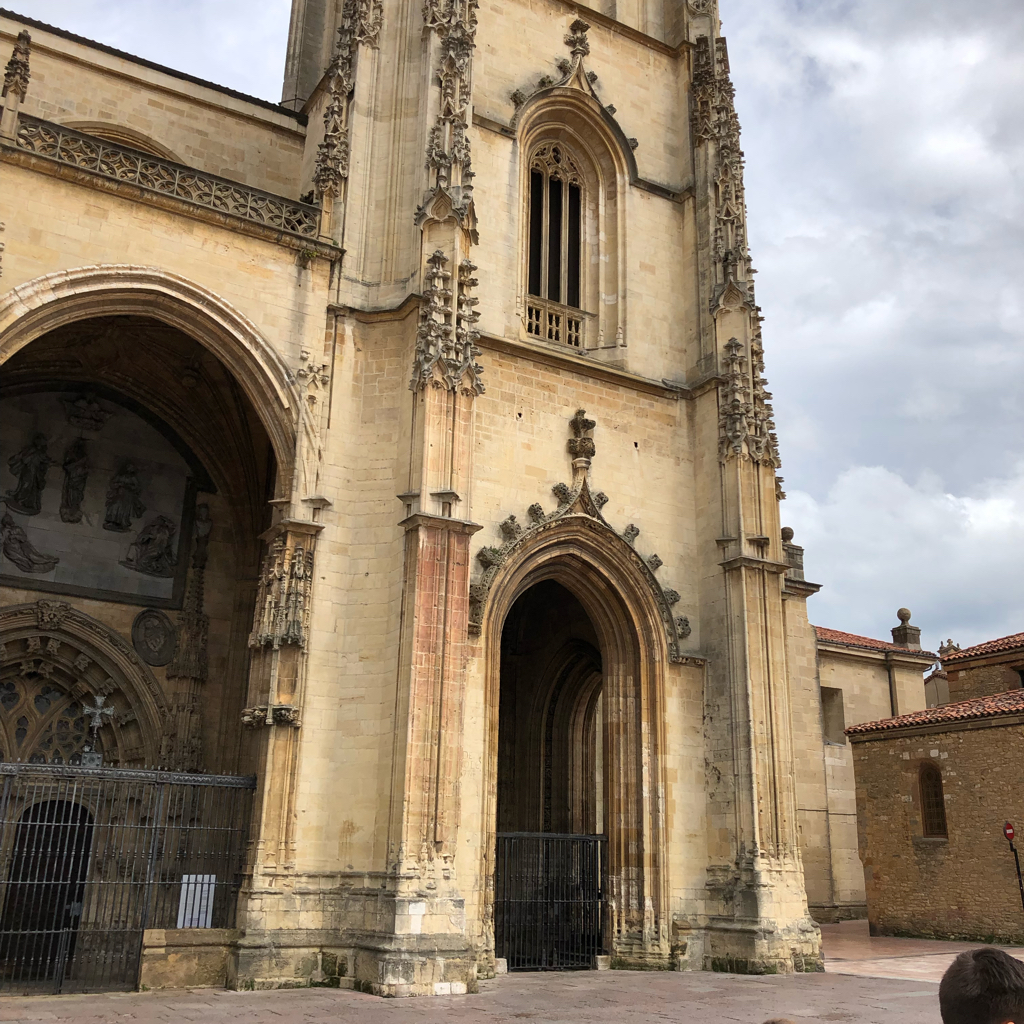arco-apuntado: (1, 296, 302, 506), (492, 554, 658, 690)
arco-conopial: (508, 474, 639, 550), (529, 56, 616, 116)
